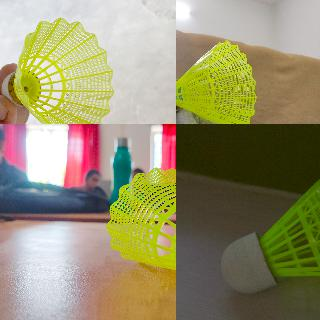shuttlecock: (220, 149, 319, 293), (2, 16, 115, 123), (106, 166, 175, 300), (176, 40, 257, 123)
